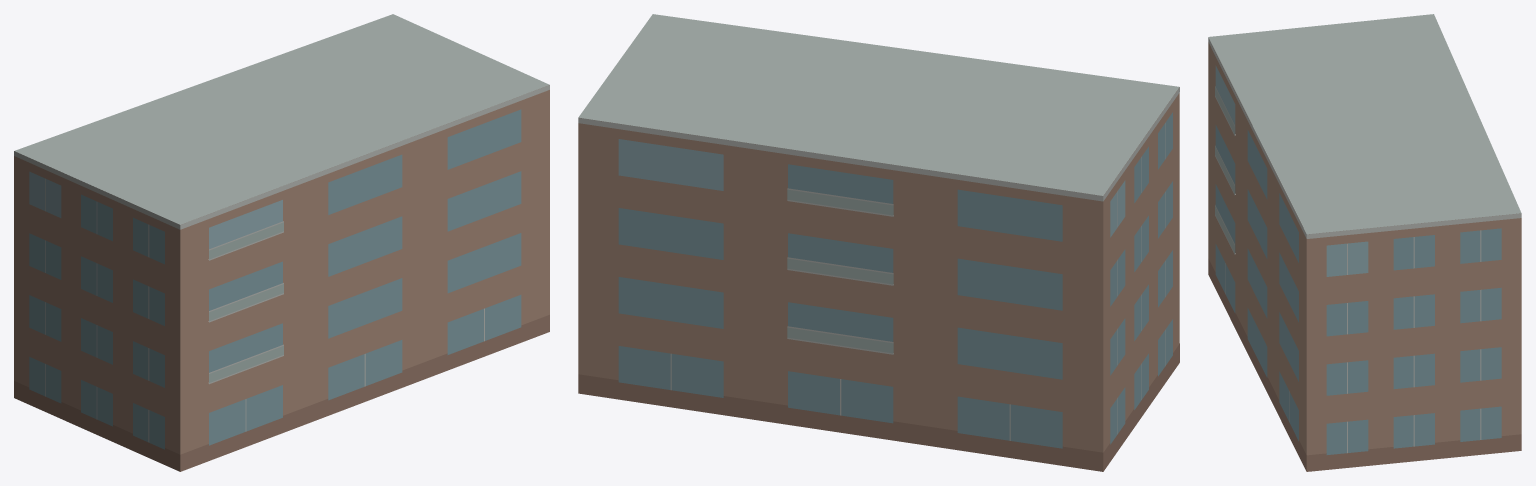
The model's file is survey-upis-32903734.glb.
3 renders of one model, left to right at view 1: azimuth 30°, elevation 25°; view 2: azimuth 150°, elevation 25°; view 3: azimuth 270°, elevation 25°, orthographic. The views are drawn at different scales.
Parts seen in each view (by area): view 1: survey-upis-32903734.tmp; view 2: survey-upis-32903734.tmp; view 3: survey-upis-32903734.tmp.
Boxes of the visible parts, x1,y1,x2,y2 form: survey-upis-32903734.tmp: [14, 14, 549, 471]; survey-upis-32903734.tmp: [578, 14, 1179, 471]; survey-upis-32903734.tmp: [1208, 14, 1521, 471].
Bounding box in the file's own units: 24.28 × 12.2 × 14.59.
